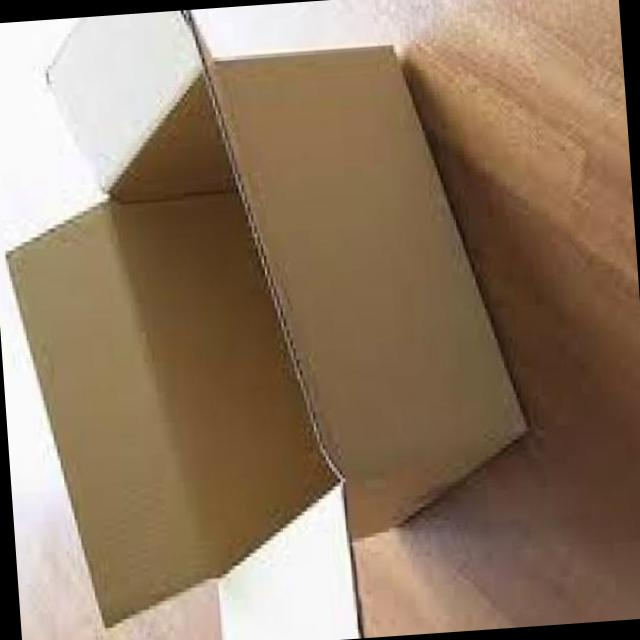cardboard paper: (2, 8, 531, 640)
